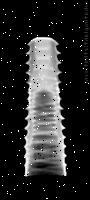Cowellmedi: (22, 34, 67, 176)
